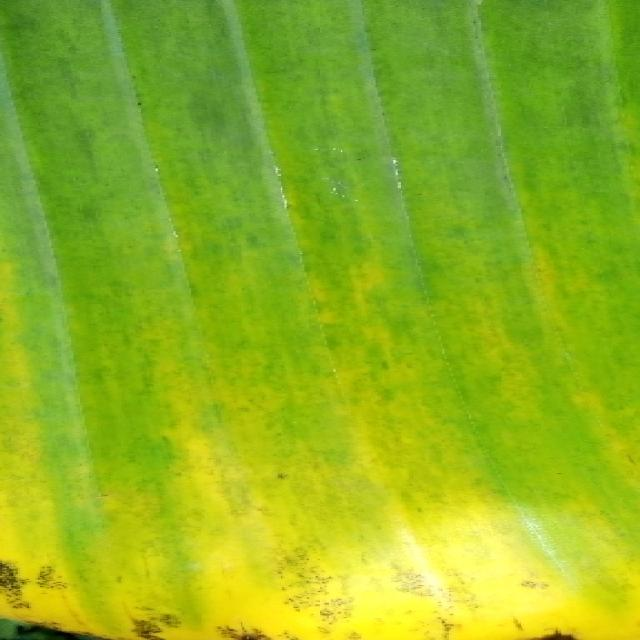Cordana: (6, 161, 640, 640)
